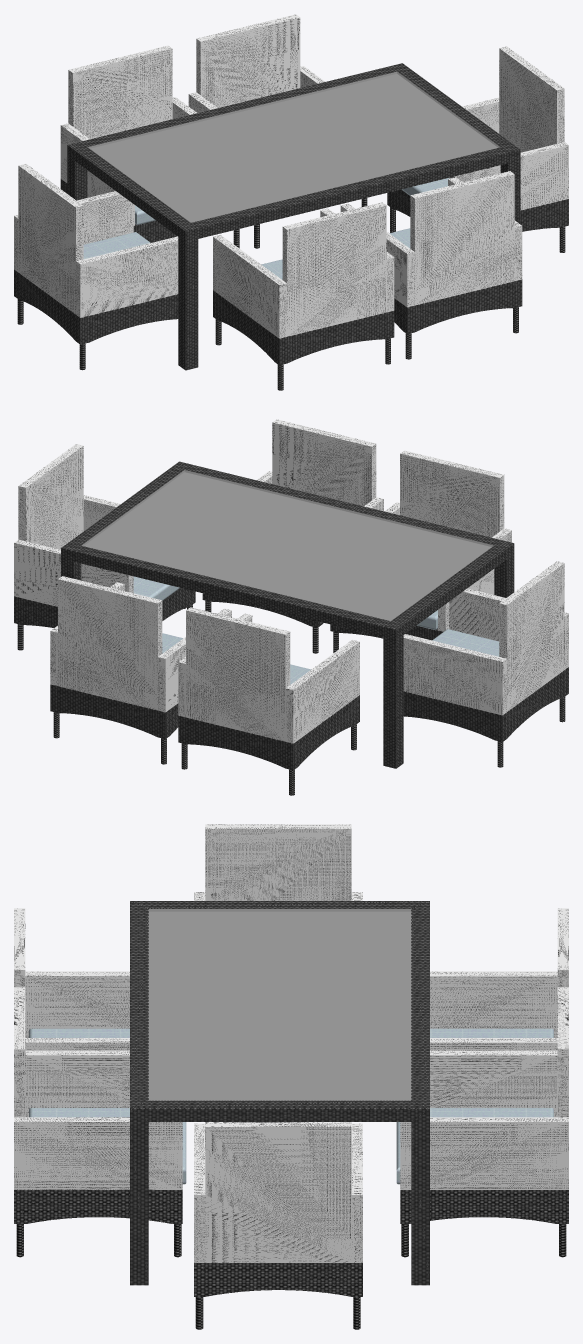
File: garden furniture 2.dae
3 renders of one model, top to bottom at view 1: azimuth 30°, elevation 25°; view 2: azimuth 150°, elevation 25°; view 3: azimuth 270°, elevation 25°, orthographic. The views are drawn at different scales.
Visible parts, largest first — view 1: group_0 (×3), group_1, group_26, group_11, group_6, group_16, group_21, Component_1; view 2: group_0 (×3), group_16, group_26, group_21, group_6, group_1, group_11, Component_1 (×2); view 3: group_0 (×3), group_6, group_21, group_11, group_26, group_16, group_1, Component_1 (×4).
Part boxes in pixels (box(x1,y1,x2,y2)): group_0 (×3): box(67, 63, 520, 370); group_1: box(213, 202, 394, 365); group_26: box(14, 163, 178, 344); group_11: box(340, 171, 522, 334); group_6: box(387, 46, 568, 231); group_16: box(60, 45, 196, 242); group_21: box(188, 14, 324, 112); Component_1: box(83, 232, 150, 259); group_0 (×3): box(61, 461, 514, 768); group_16: box(178, 607, 359, 770); group_26: box(403, 561, 568, 742); group_21: box(50, 576, 231, 739); group_6: box(14, 444, 195, 627); group_1: box(330, 450, 511, 640); group_11: box(202, 419, 383, 627); Component_1 (×2): box(133, 576, 499, 656); group_0 (×3): box(130, 901, 429, 1285); group_6: box(194, 1122, 362, 1296); group_21: box(400, 987, 568, 1223); group_11: box(14, 987, 182, 1223); group_26: box(194, 824, 362, 900); group_16: box(430, 908, 568, 1050); group_1: box(14, 908, 129, 1050); Component_1 (×4): box(29, 1028, 553, 1184).
Bounding box in the file's own units: 75.2 × 58.27 × 23.62.
5 materials, 3 textured.
